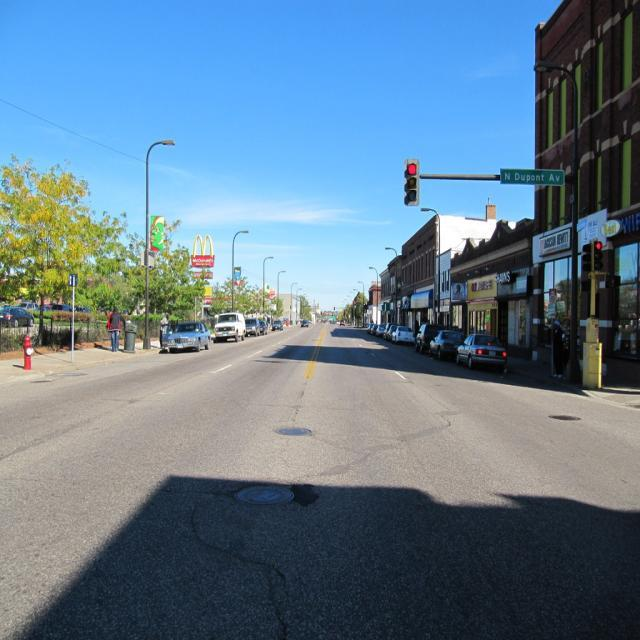traffic light: (405, 159, 420, 205), (592, 240, 603, 272)
